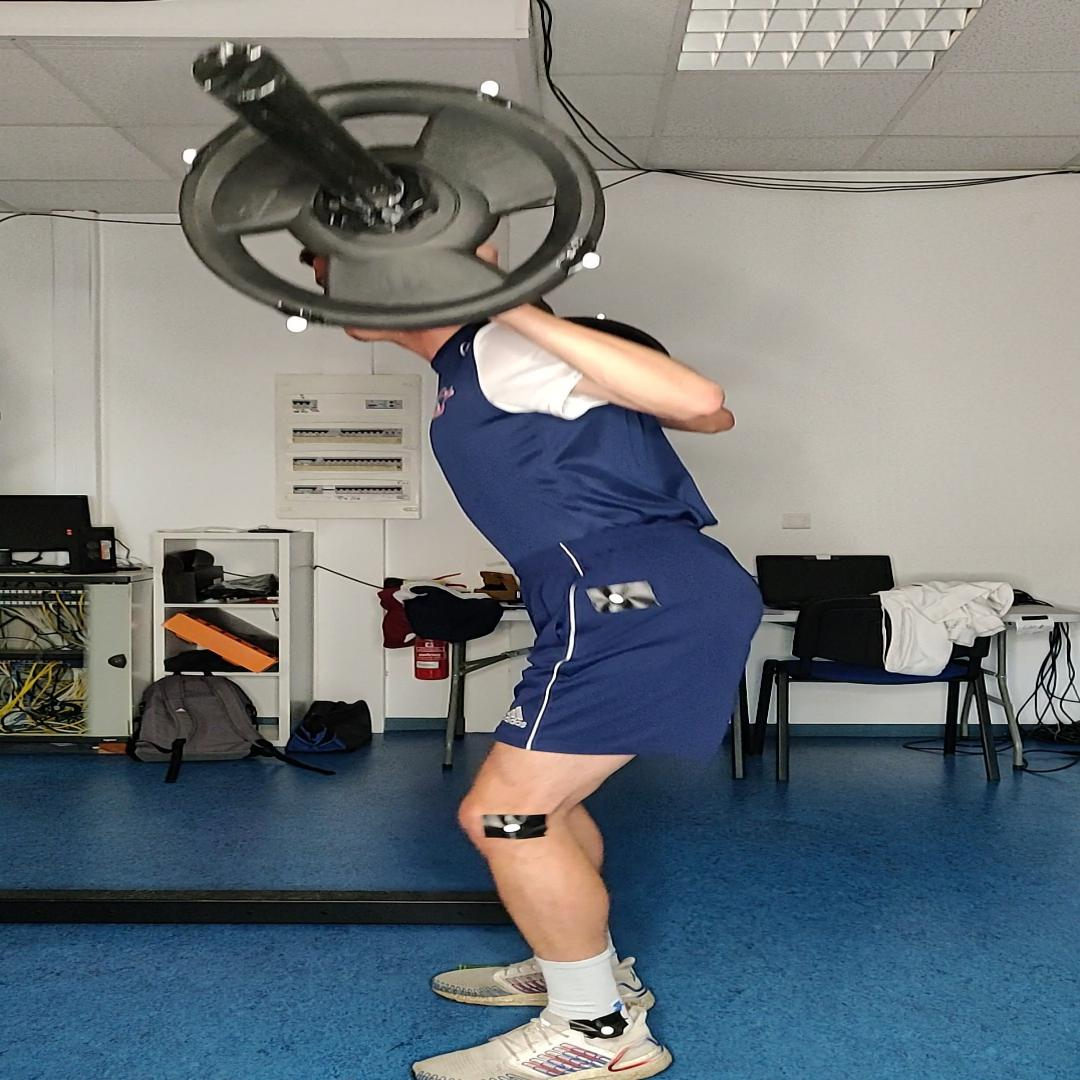Bar: (192, 42, 290, 102)
Barbell: (178, 80, 604, 330)
